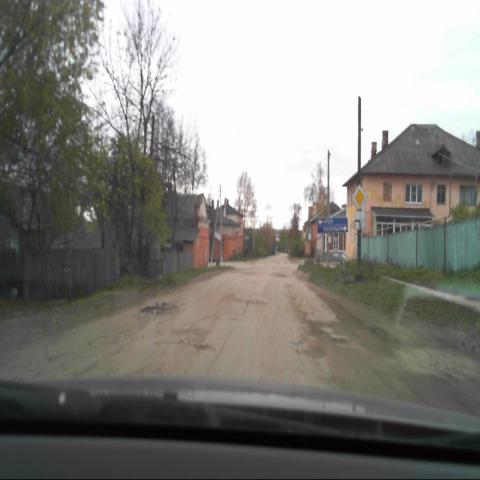8_13: (354, 210, 365, 230)
